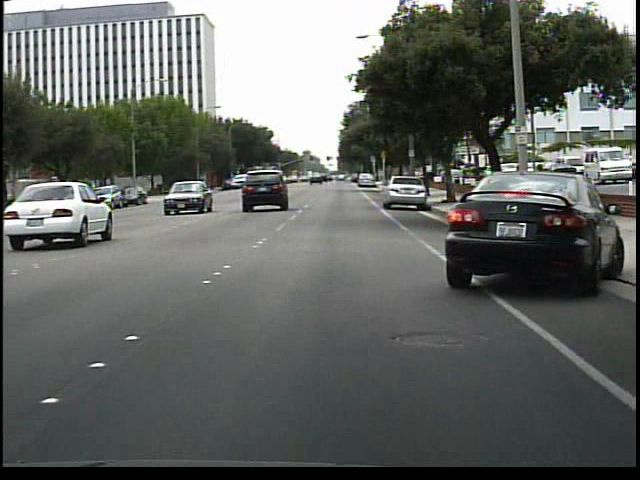person: (514, 161, 534, 213), (530, 159, 551, 195)
